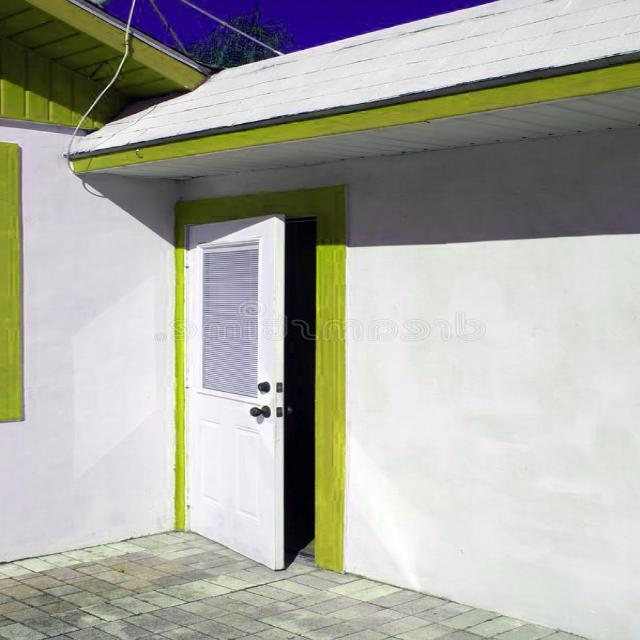door: (156, 175, 362, 578)
